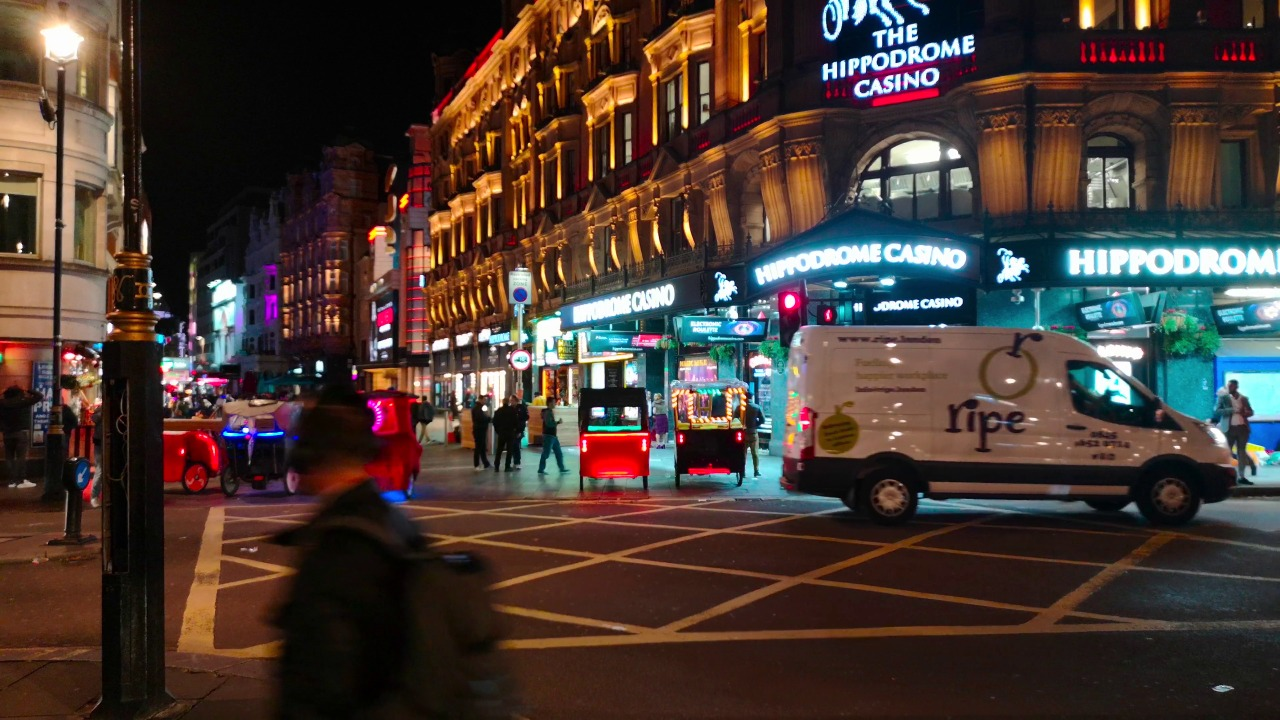car: (787, 342, 1199, 530), (676, 380, 749, 495), (589, 390, 650, 493), (381, 403, 434, 502), (227, 403, 274, 487), (163, 430, 216, 495)
person: (280, 401, 476, 706), (1226, 378, 1261, 467), (92, 406, 112, 513), (13, 381, 31, 487), (752, 389, 773, 479), (478, 395, 495, 471), (551, 402, 567, 480), (514, 390, 527, 473), (502, 393, 515, 475)
